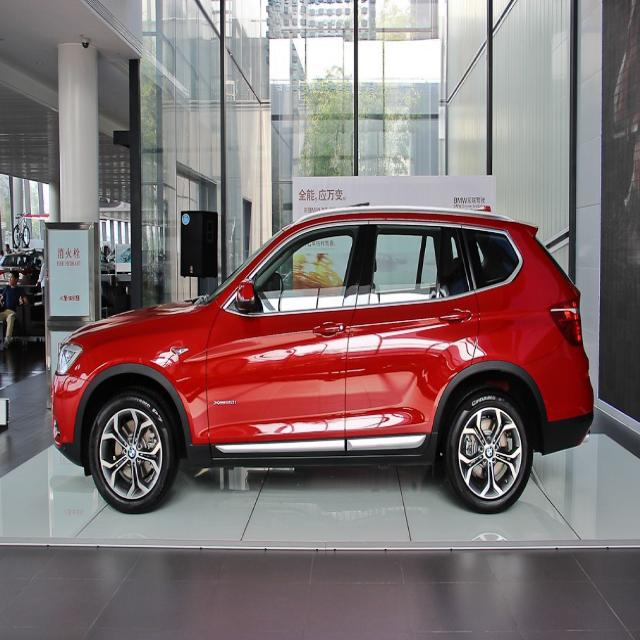back_left_side_light: (548, 294, 584, 346)
door: (347, 222, 469, 458)
front_bumper: (49, 369, 98, 471)
front_left_side_door: (205, 217, 369, 463)
front_left_side_light: (54, 340, 85, 376)
front_left_side_mirror: (235, 278, 258, 314)
rear_bumper: (514, 335, 595, 455)
wheel: (88, 390, 177, 516), (446, 388, 530, 514)
